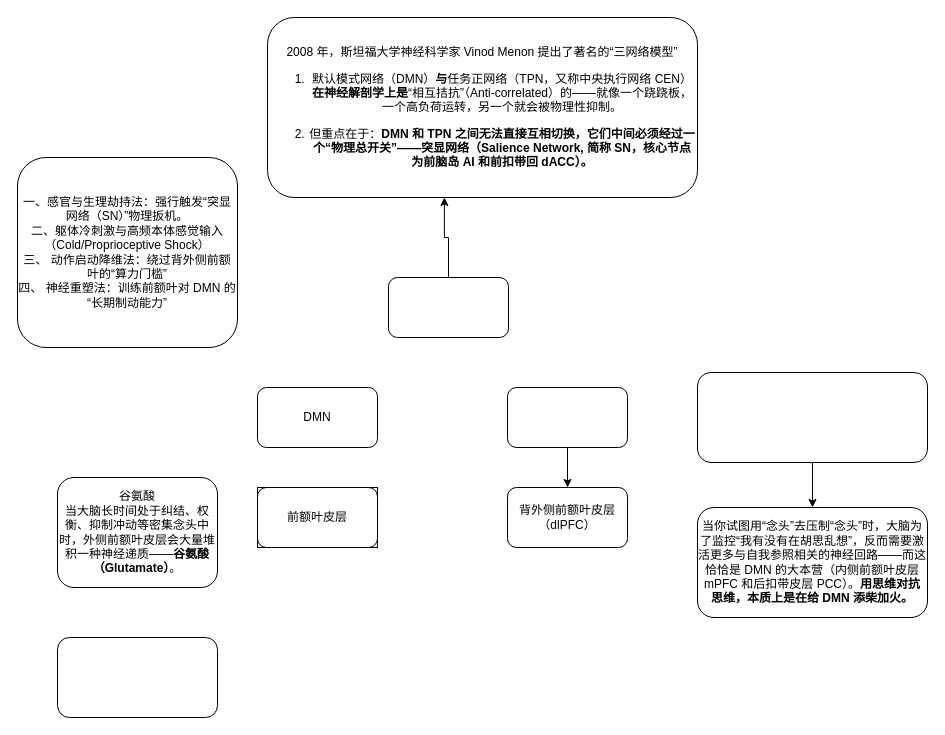
Some shapes in this 945 by 735 pixel diagram are drawn without their labels. Here are the shapes that lost their labels. From the top down, the centre of each, then its label:
At [448,307]: "SN".
At [567,417]: "任务正网络（TPN）".
At [812,417]: "我们首先必须理解一个最核心的底层困境： 为什么你越是在脑子里命令自己“别想了，快去干活”，你的内耗反而越严重？".
At [137,677]: "杏仁核（Amygdala）与下丘脑".
